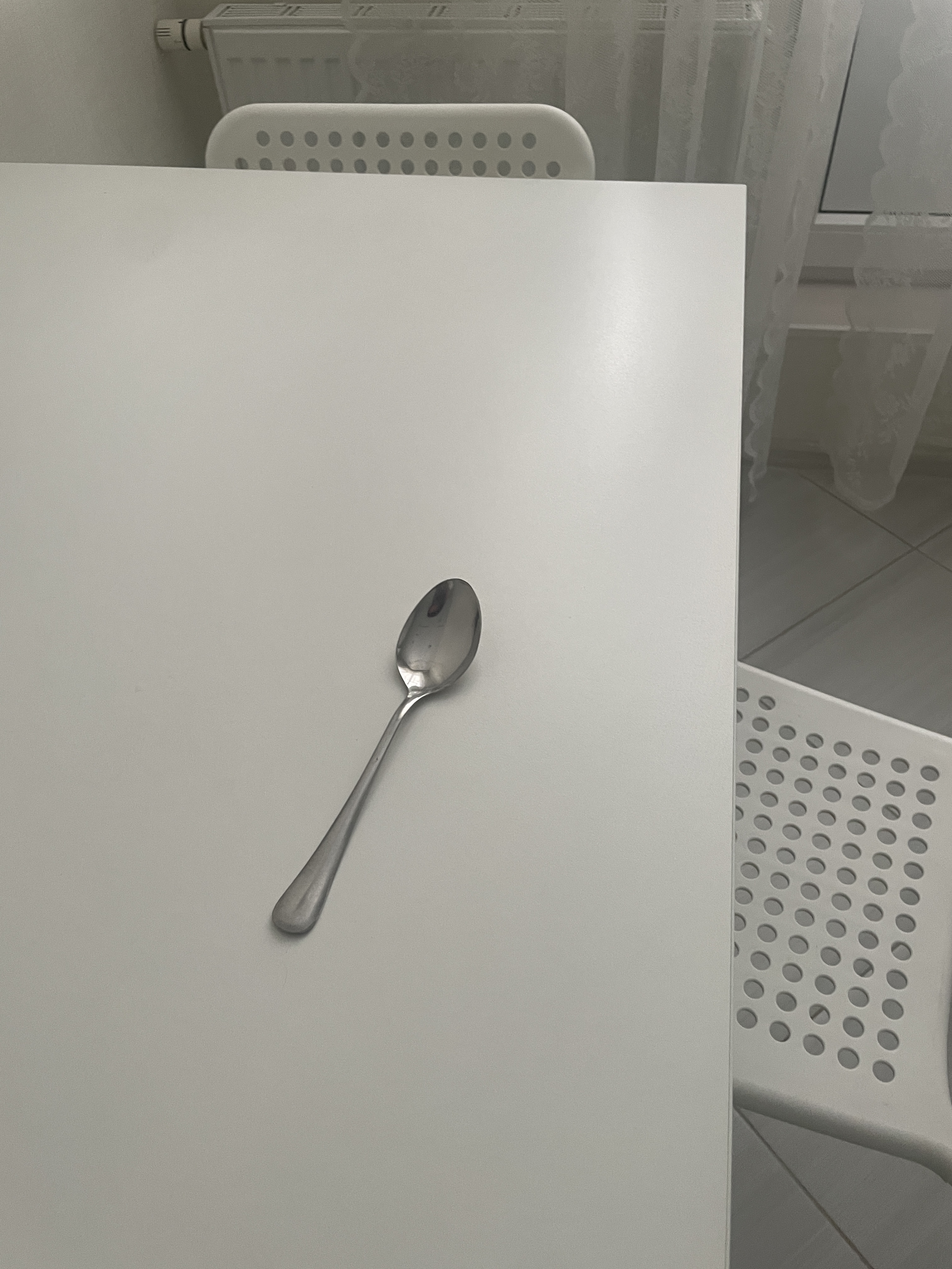spoon: (272, 579, 481, 934)
